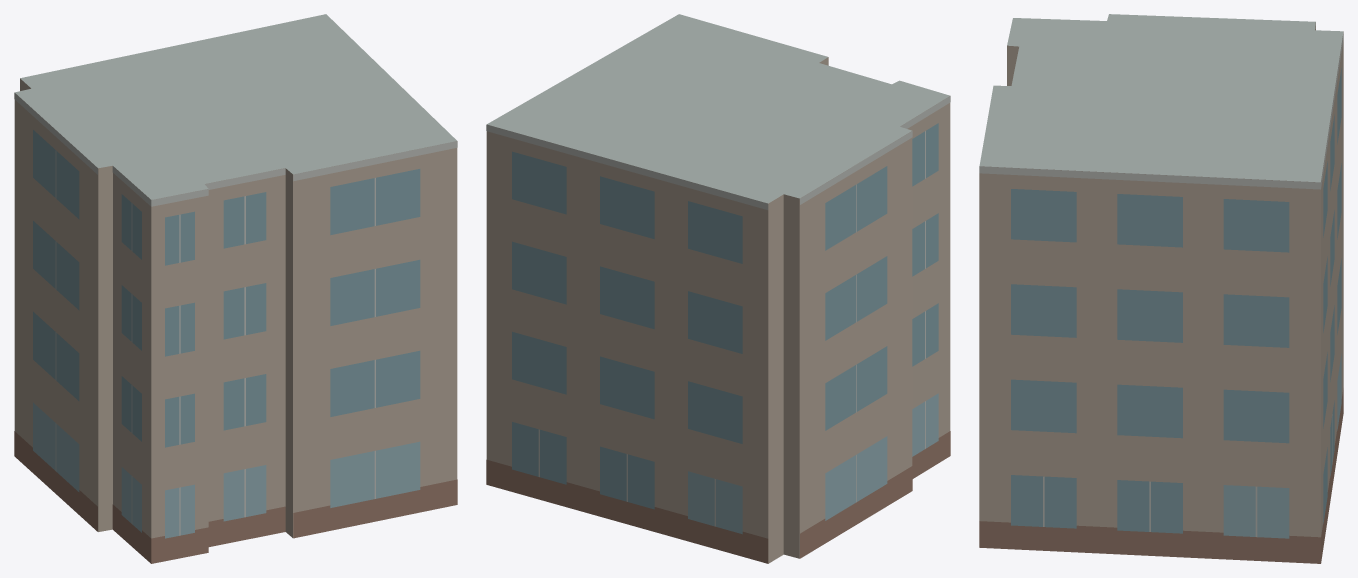
Rendered from survey-upis-32663427.glb.
3 renders of one model, left to right at view 1: azimuth 30°, elevation 25°; view 2: azimuth 150°, elevation 25°; view 3: azimuth 270°, elevation 25°, orthographic. The views are drawn at different scales.
Visible parts, largest first — view 1: survey-upis-32663427.tmp; view 2: survey-upis-32663427.tmp; view 3: survey-upis-32663427.tmp.
Boxes of the visible parts, x1,y1,x2,y2 form: survey-upis-32663427.tmp: (14,14,457,563); survey-upis-32663427.tmp: (486,14,950,563); survey-upis-32663427.tmp: (979,14,1343,563).
Size of the model in its own units: 12.36 by 13.05 by 11.3.
